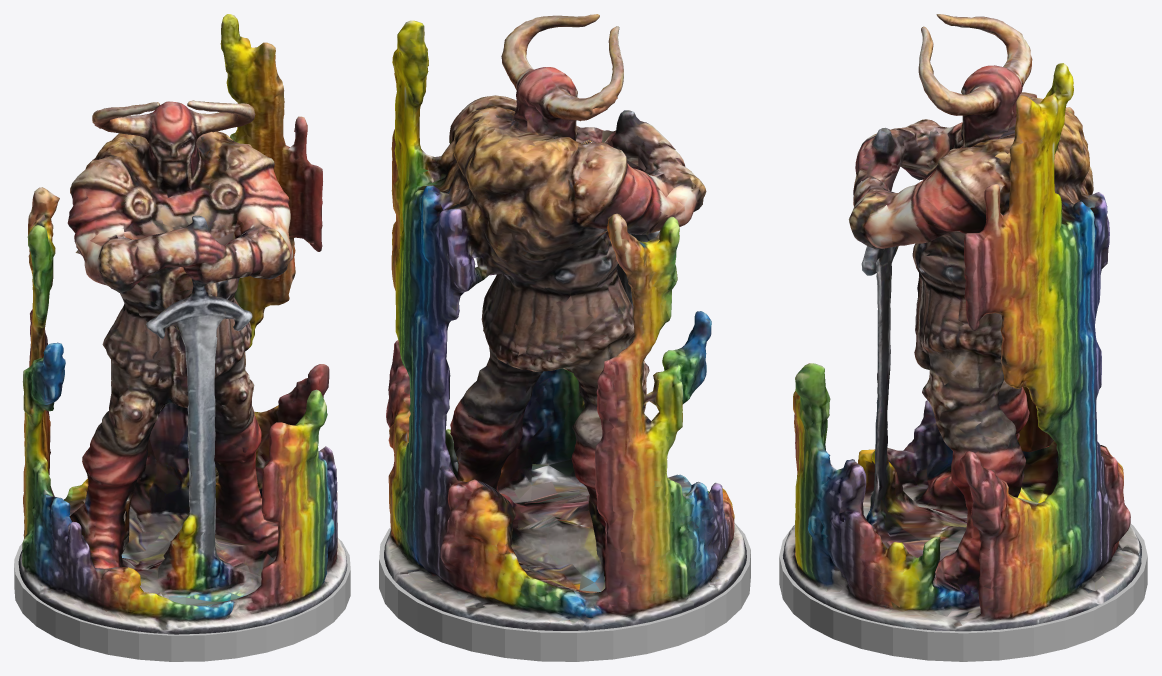
The picture shows the model from 3 angles, left to right: view 1: azimuth 30°, elevation 25°; view 2: azimuth 150°, elevation 25°; view 3: azimuth 270°, elevation 25°; orthographic projection. The views are drawn at different scales.
Parts seen in each view (by area): view 1: Heimdall, default; view 2: Heimdall, default; view 3: Heimdall, default.
Boxes of the visible parts, x1,y1,x2,y2 form: Heimdall: (18,14,347,634); default: (14,538,350,661); Heimdall: (384,14,746,630); default: (379,522,750,661); Heimdall: (783,14,1141,631); default: (779,523,1147,661).
Size of the model in its own units: 1.4 by 2.35 by 1.38.
2 materials, 1 textured.
